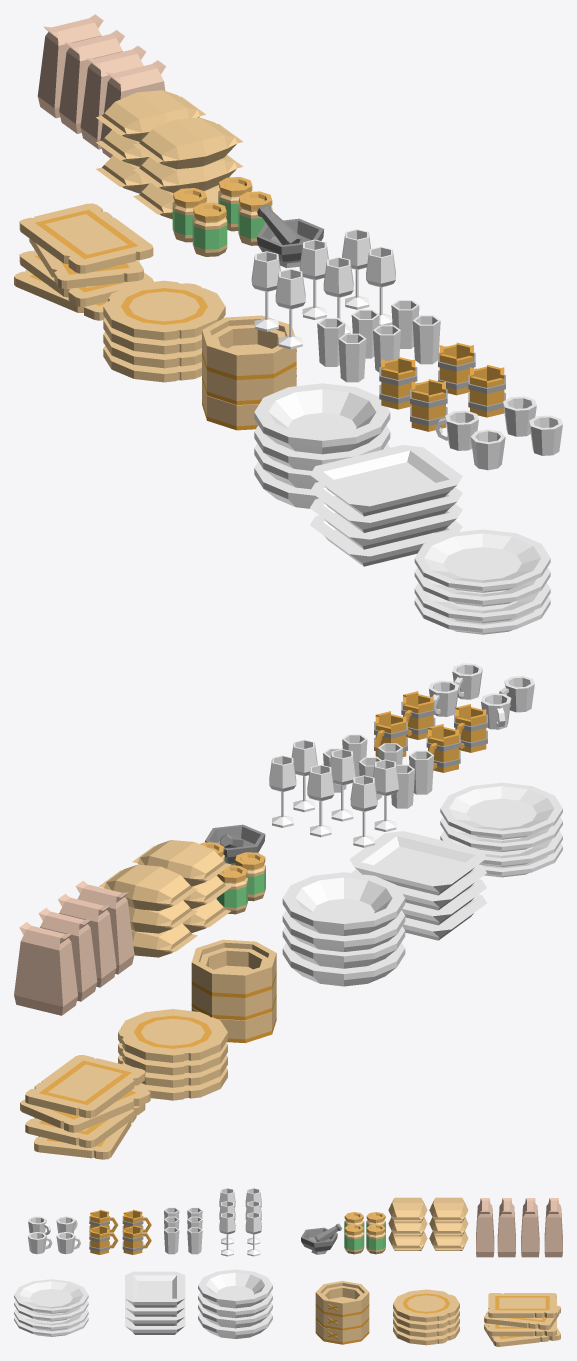
Rendered from CocinaObjetos05.fbx.
The picture shows the model from 3 angles, top to bottom: view 1: azimuth 30°, elevation 25°; view 2: azimuth 150°, elevation 25°; view 3: azimuth 270°, elevation 25°; orthographic projection. The views are drawn at different scales.
Visible parts, largest first — view 1: CocinaObjetos05; view 2: CocinaObjetos05; view 3: CocinaObjetos05.
Boxes of the visible parts, x1,y1,x2,y2 form: CocinaObjetos05: [14, 14, 562, 634]; CocinaObjetos05: [14, 663, 562, 1159]; CocinaObjetos05: [14, 1188, 562, 1346].
Size of the model in its own units: 53.55 by 87.47 by 328.
